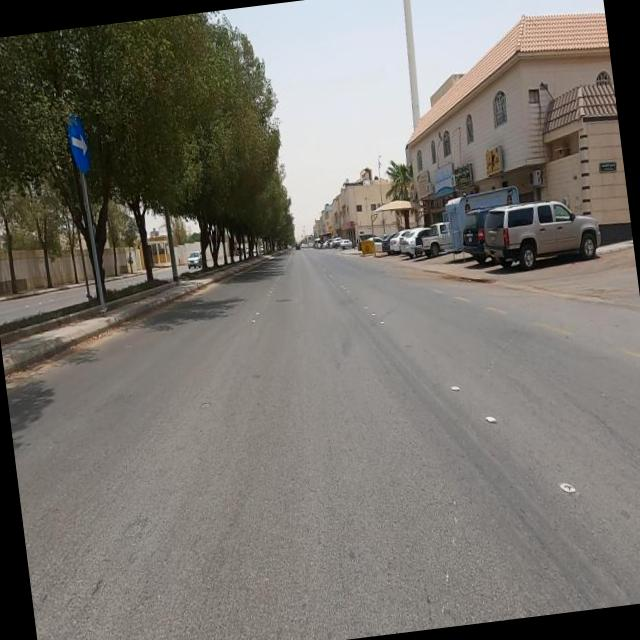debris: (402, 156, 439, 220)
